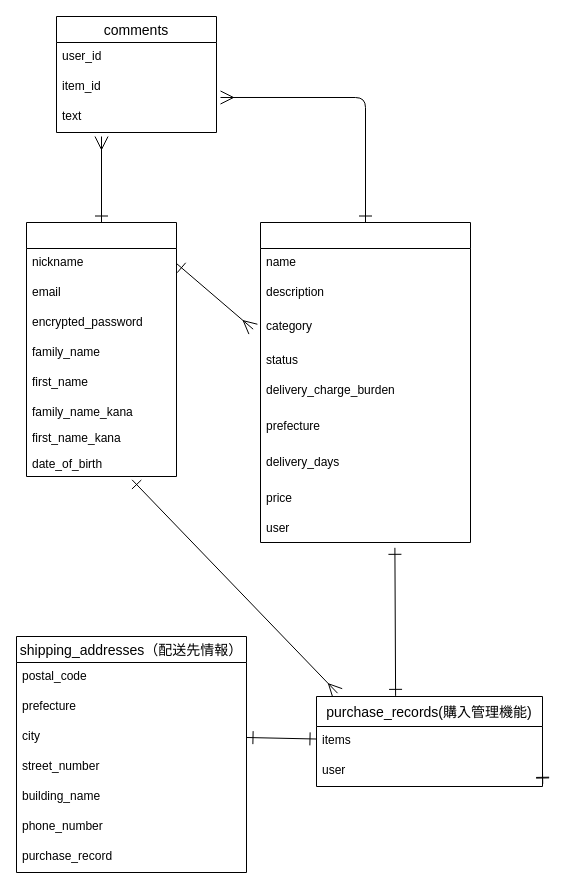
Some shapes in this 566 by 889 pixel diagram are drawn without their labels. Here are the shapes that lost their labels. From the top down, the box of each, then its label:
(26, 222, 176, 476): user（ユーザー管理）
(260, 222, 470, 542): items(商品出品機能)
